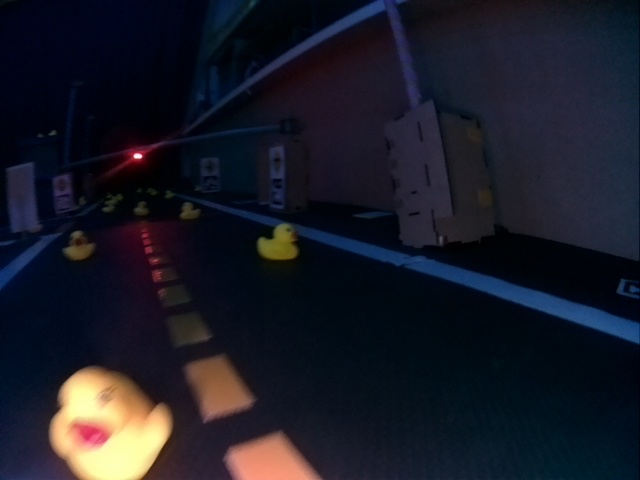Duckie: (49, 367, 172, 479), (257, 224, 298, 258), (63, 231, 96, 260), (180, 202, 198, 218), (134, 203, 146, 214), (103, 203, 115, 213), (165, 190, 174, 199)
Intersection sign: (271, 149, 281, 171), (203, 159, 217, 174)
QR code: (270, 178, 284, 207), (619, 280, 639, 298), (54, 197, 73, 212), (202, 178, 219, 191)
Traffic light: (132, 151, 144, 161)
